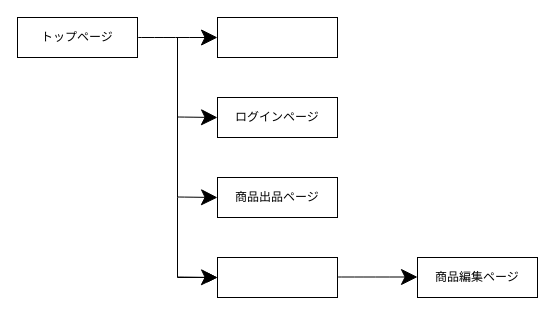
Image size: 555x315. Some labels were removed from this diagram. Each missing label, with the centre of its shape:
"商品詳細ページ" goes at point 277,277.
"新規登録ページ" goes at point 277,37.
